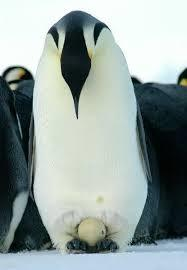emporer: (24, 1, 165, 258)
